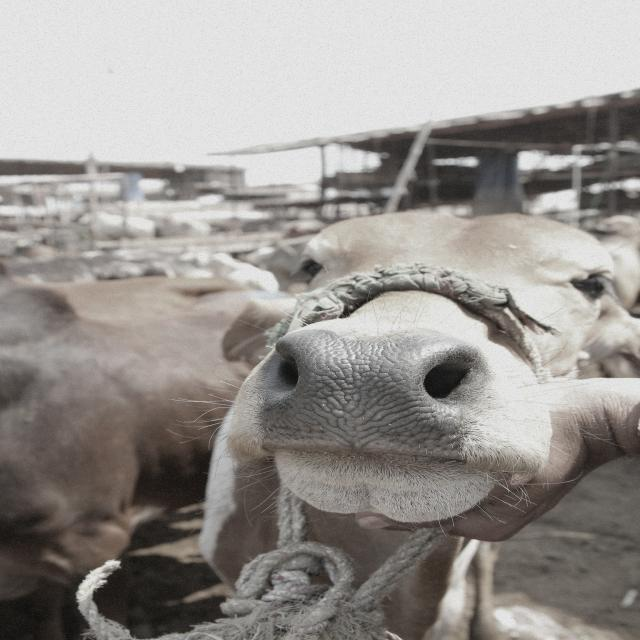muzzles: (261, 330, 497, 460)
